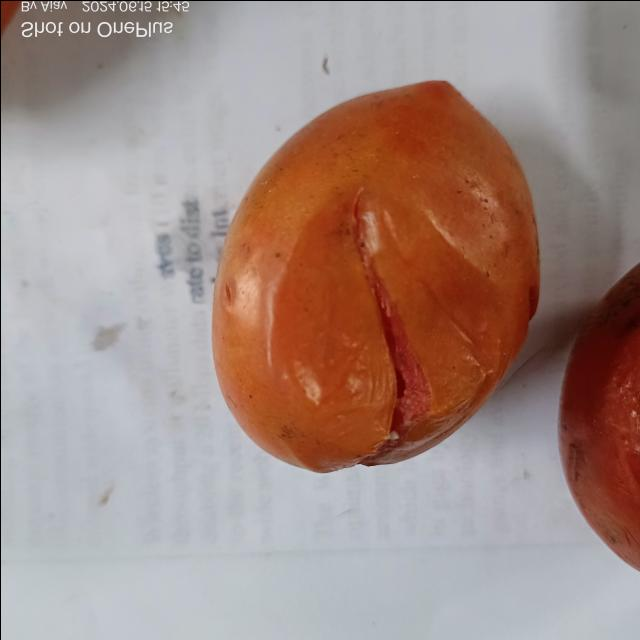Botrytis: (352, 178, 422, 466)
